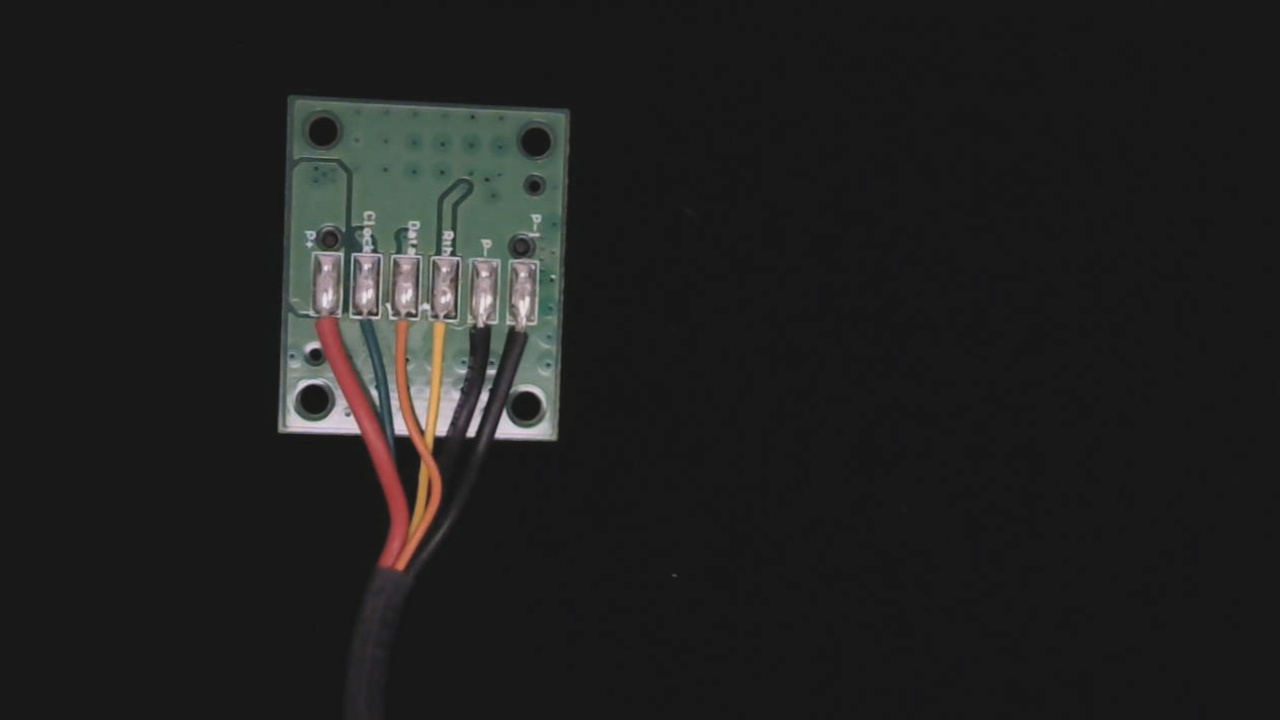Black: (475, 304, 511, 364)
Black1: (518, 302, 552, 355)
Green: (355, 301, 390, 351)
Orange: (398, 299, 429, 367)
Red: (316, 299, 349, 360)
Yellow: (433, 298, 465, 371)
